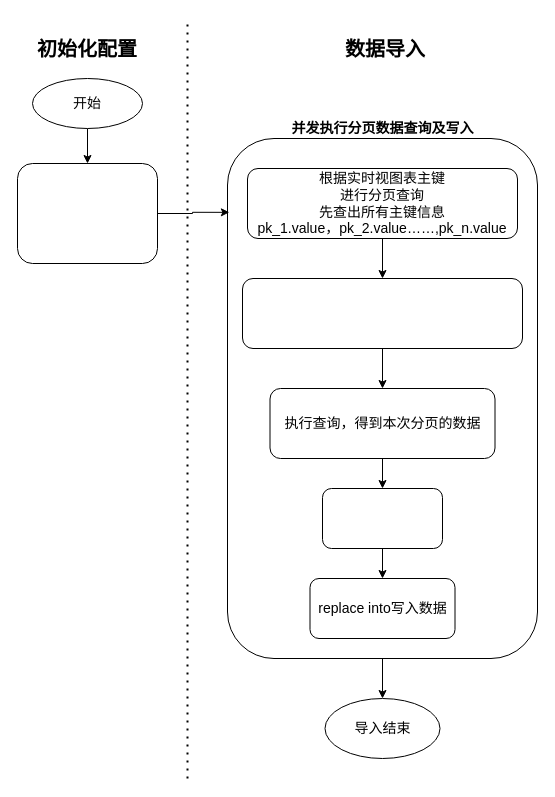
Some shapes in this 555 by 797 pixel diagram are drawn without their labels. Each missing label, with the centre of its shape:
"定义基础配置： source_db view_sql target_db target_table" belongs at (x=87, y=213).
"执行规则" belongs at (x=382, y=518).
"通过druid解析器， 对原view_sql拼接上where pk = pk_value的条件" belongs at (x=382, y=313).
